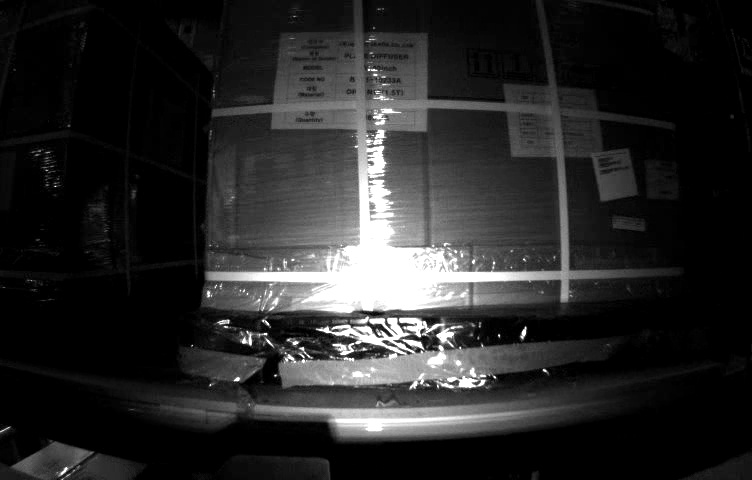True Barcode: (647, 158, 679, 198)
